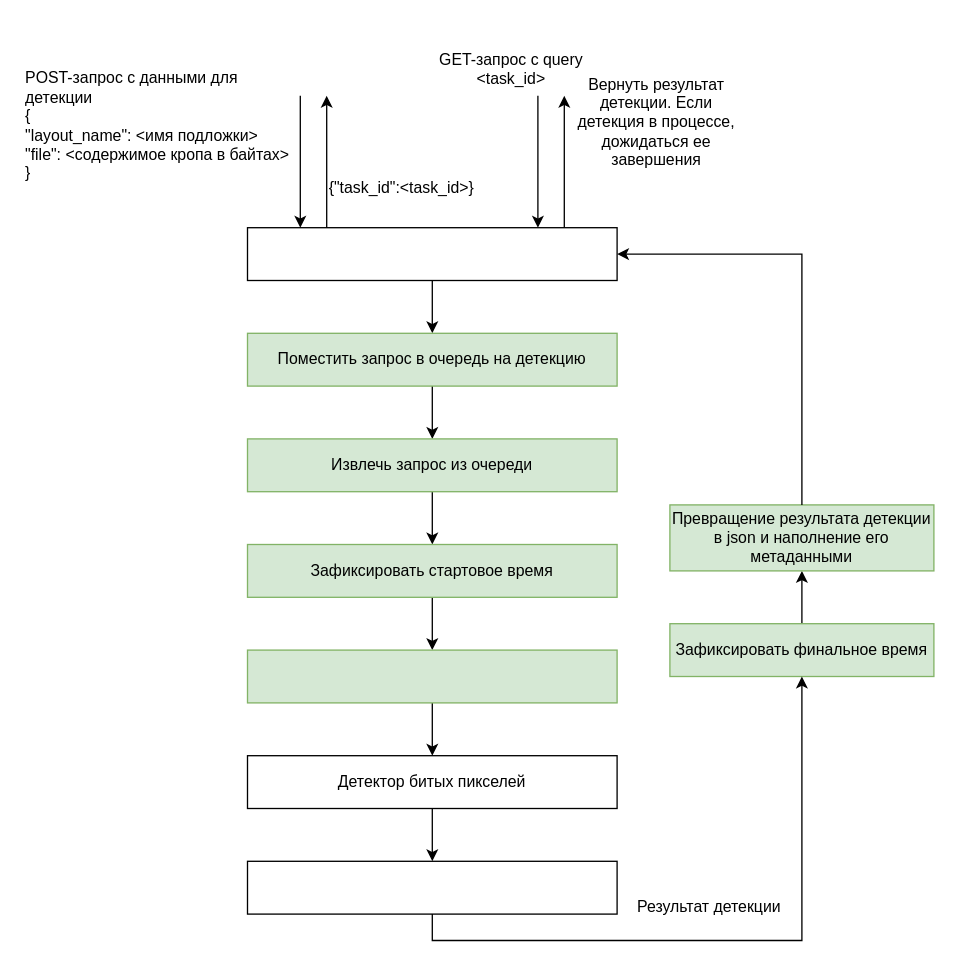
The diagram is 957 pixels wide and 974 high, and some of its shapes have lost their labels. Each missing label, with the box of its shape:
detect(layout_name: str, crop: np.ndarray, height: int, width: int): (246, 649, 617, 703)
Worker: (246, 226, 617, 280)
Детектор поиска координат кропа на подложке: (246, 860, 617, 914)
